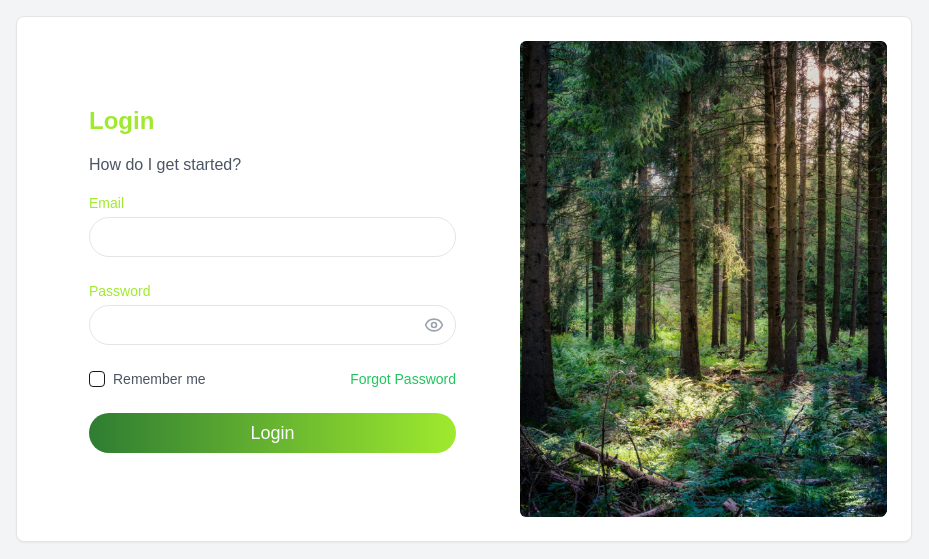
Scenario: LoginPage › should show error messages for empty fields
This screenshot has width=929, height=559.
Click the button "Login": x=272, y=433 [89, 413, 456, 453]
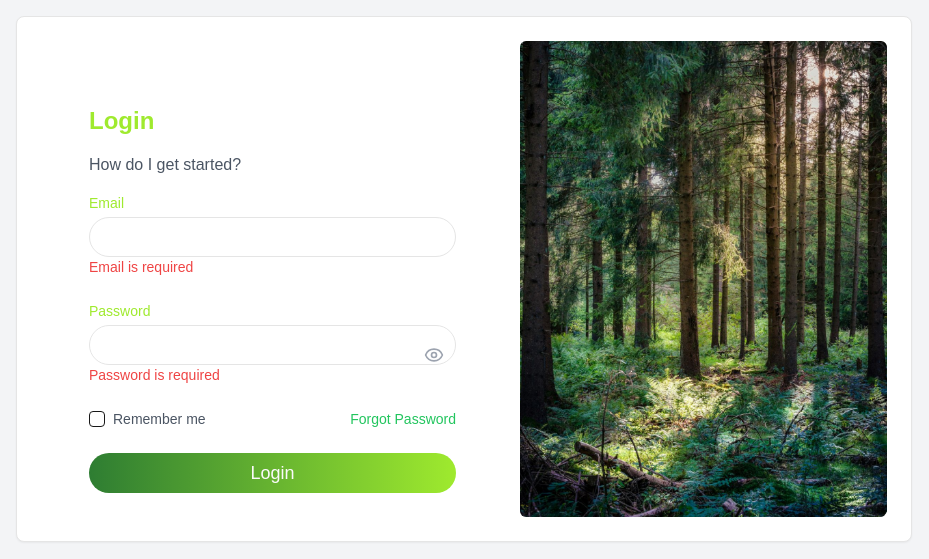
Expected: the text "Email is required" is shown, [89, 259, 193, 275]
Expected: the text "Password is required" is shown, [89, 367, 220, 383]
